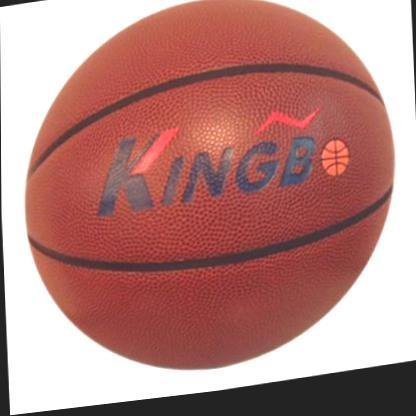basketball: (16, 0, 406, 399)
